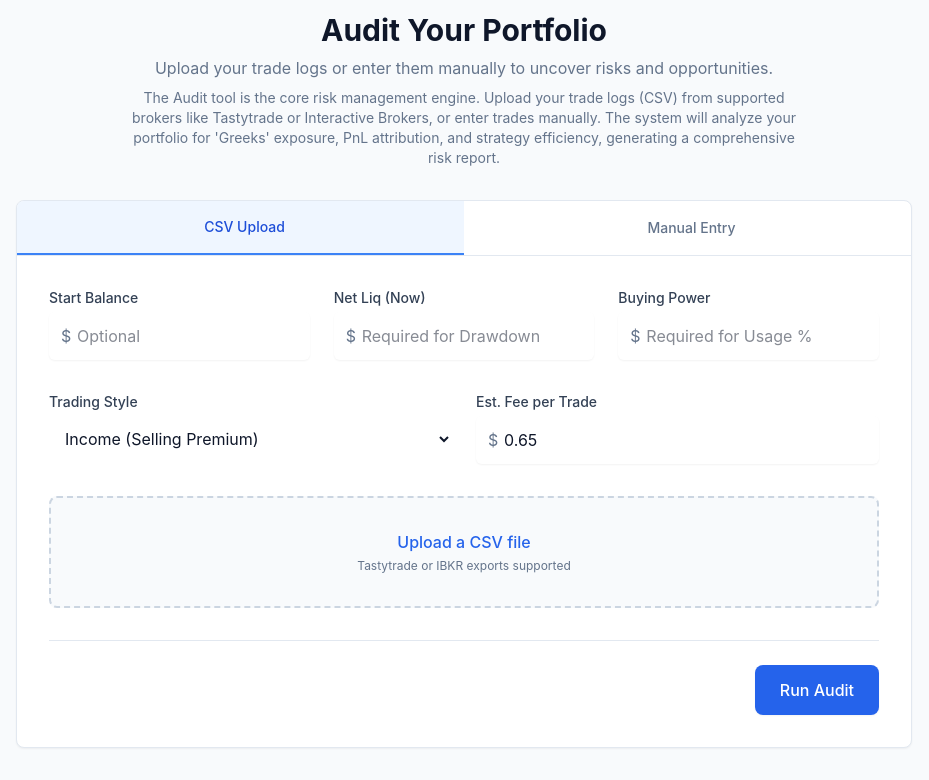
Scenario: Audit Component › switches to Manual Entry mode
The width and height of the screenshot is (929, 780).
Click the button "Manual Entry": (688, 228) x1=464 y1=201 x2=911 y2=255
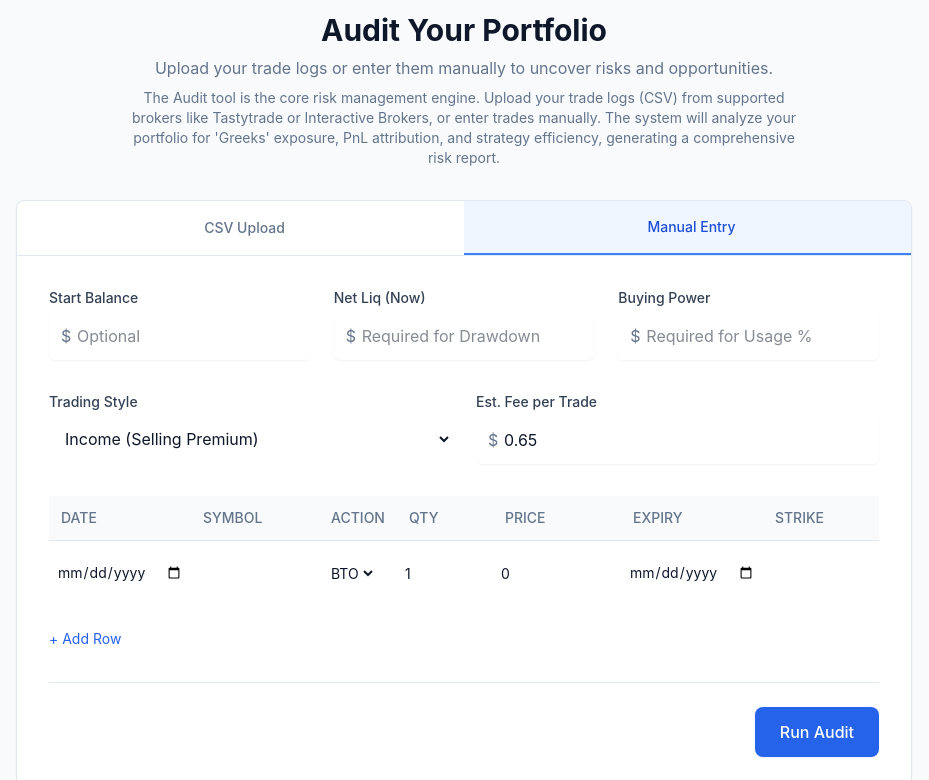
Check: the button "+ Add Row" is shown, box x1=49 y1=629 x2=121 y2=649
